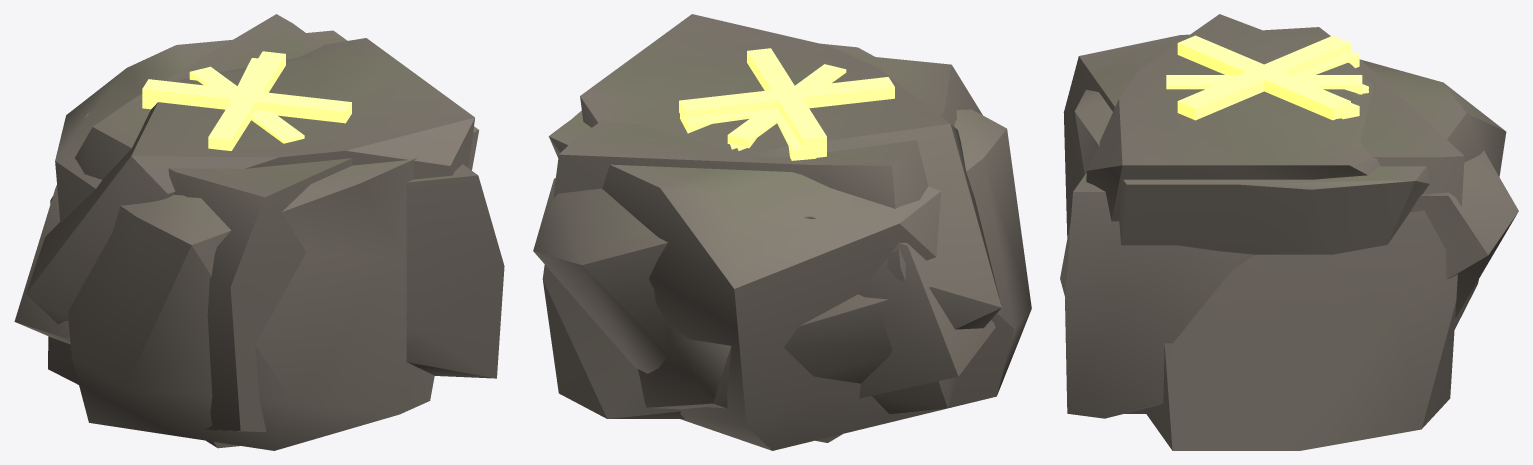
File: knot_chunk.glb
3 renders of one model, left to right at view 1: azimuth 30°, elevation 25°; view 2: azimuth 150°, elevation 25°; view 3: azimuth 270°, elevation 25°, orthographic. The views are drawn at different scales.
Visible parts, largest first — view 1: chunk_b, chunk_d, chunk_a, chunk_c; view 2: chunk_b, chunk_d, chunk_a, chunk_c; view 3: chunk_a, chunk_d, chunk_c, chunk_b.
Boxes of the visible parts, bbox=[...] form: chunk_b: bbox=[55, 30, 479, 450]; chunk_d: bbox=[26, 38, 474, 448]; chunk_a: bbox=[48, 14, 352, 432]; chunk_c: bbox=[14, 112, 504, 378]; chunk_b: bbox=[548, 43, 1031, 450]; chunk_d: bbox=[580, 14, 1001, 442]; chunk_a: bbox=[542, 54, 982, 418]; chunk_c: bbox=[533, 177, 995, 398]; chunk_a: bbox=[1063, 27, 1464, 450]; chunk_d: bbox=[1086, 14, 1478, 329]; chunk_c: bbox=[1065, 150, 1518, 418]; chunk_b: bbox=[1060, 59, 1506, 413].
Size of the model in its own units: 0.3223 by 0.2261 by 0.3046.
